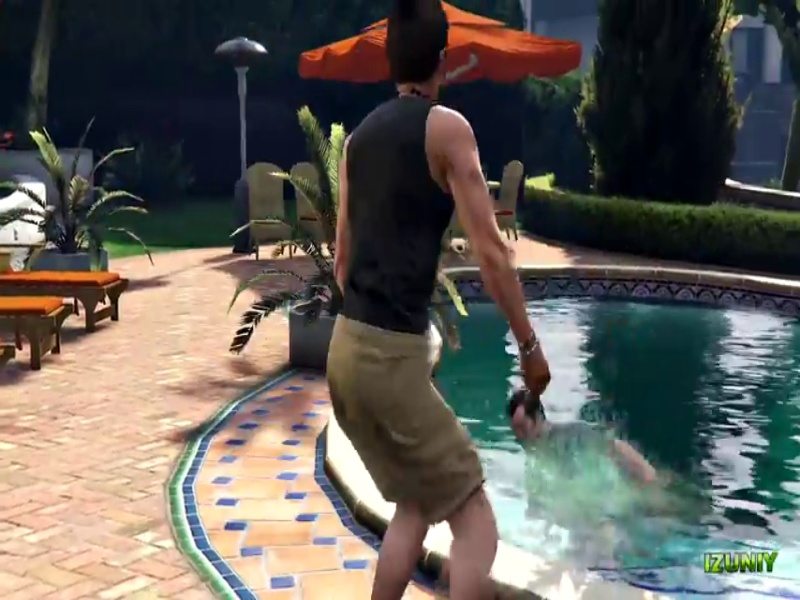human: (305, 40, 564, 600)
